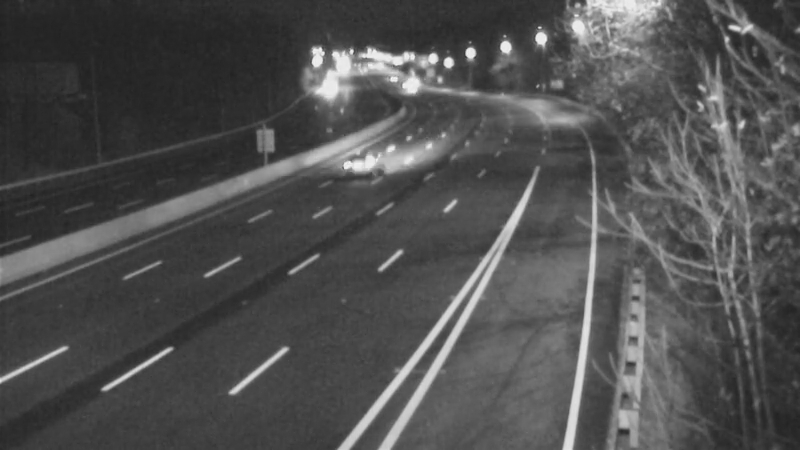vehicle: (316, 126, 396, 206), (386, 65, 436, 115)
